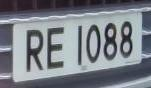0: (85, 19, 104, 68)
1: (73, 21, 88, 70)
8: (117, 16, 136, 64), (102, 18, 120, 66)
E: (45, 23, 68, 73)
R: (21, 26, 47, 75)
